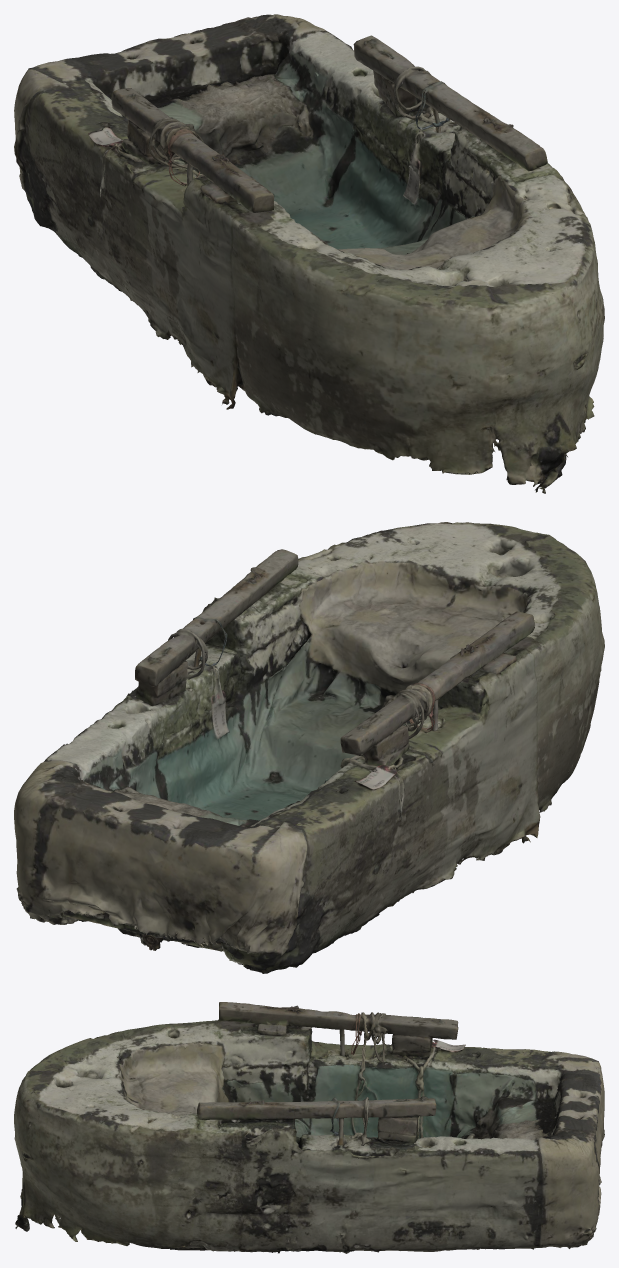
Rendered from 1996_0008_0001-100k-2048_std_draco.glb.
3 views of the same model, one above another, from view 1: azimuth 30°, elevation 25°; view 2: azimuth 150°, elevation 25°; view 3: azimuth 270°, elevation 25° (orthographic). The views are drawn at different scales.
Size of the model in its own units: 0.9274 by 0.6534 by 2.02.
Materials: 1 (1 with a texture image).
